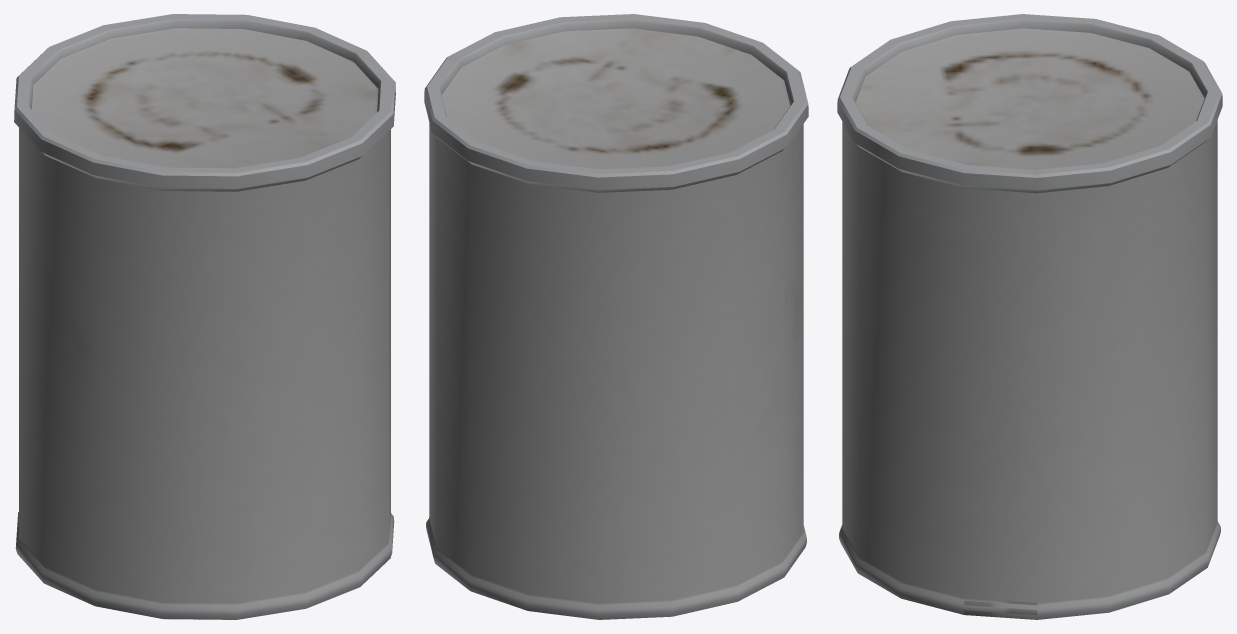
Rendered from Prop_Preserves_3.fbx.
3 renders of one model, left to right at view 1: azimuth 30°, elevation 25°; view 2: azimuth 150°, elevation 25°; view 3: azimuth 270°, elevation 25°, orthographic.
Visible parts, largest first — view 1: Prop_Preserves_3; view 2: Prop_Preserves_3; view 3: Prop_Preserves_3.
Part boxes in pixels (x1,y1,x2,y2): Prop_Preserves_3: (14, 14, 395, 619); Prop_Preserves_3: (424, 14, 808, 619); Prop_Preserves_3: (837, 14, 1222, 619).
Bounding box in the file's own units: 5.98 × 7.65 × 5.98.
